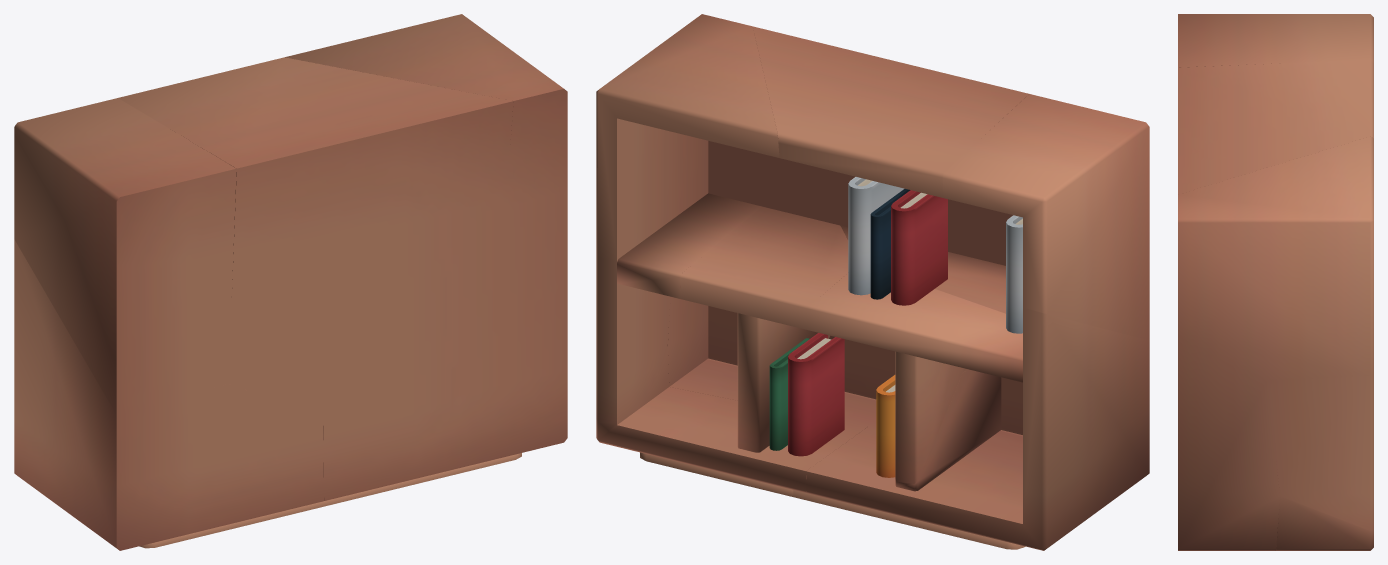
Rendered from Shelves2.fbx.
3 renders of one model, left to right at view 1: azimuth 30°, elevation 25°; view 2: azimuth 150°, elevation 25°; view 3: azimuth 270°, elevation 25°, orthographic. The views are drawn at different scales.
Visible parts, largest first — view 1: BookShelves1.002_cell.010, BookShelves1.002_cell.012, BookShelves1.002_cell.008, BookShelves1.002_cell.014, BookShelves1.002_cell.011, BookShelves1.001_cell.004, BookShelves1.001_cell.006; view 2: BookShelves1.002_cell.008, BookShelves1.002_cell.010, BookShelves1.002_cell.012, BookShelves1.002_cell.011, BookShelves1.003_cell.008, BookShelves1.003_cell.007, BookShelves1.002_cell.013, BookShelves1.002_cell.014, BookShelves1.002_cell.009, BookShelves1.003_cell.009, Books.051, Books.054 (+9 smaller); view 3: BookShelves1.002_cell.011, BookShelves1.002_cell.010, BookShelves1.002_cell.014, BookShelves1.002_cell.009, BookShelves1.002_cell.012, BookShelves1.002_cell.013.
Part boxes in pixels (bbox=[...]): BookShelves1.002_cell.010: bbox=[118, 57, 513, 415]; BookShelves1.002_cell.012: bbox=[14, 98, 236, 414]; BookShelves1.002_cell.008: bbox=[14, 239, 323, 550]; BookShelves1.002_cell.014: bbox=[323, 212, 567, 500]; BookShelves1.002_cell.011: bbox=[285, 14, 567, 231]; BookShelves1.001_cell.004: bbox=[139, 497, 342, 548]; BookShelves1.001_cell.006: bbox=[342, 453, 521, 501]; BookShelves1.002_cell.008: bbox=[806, 307, 1149, 550]; BookShelves1.002_cell.010: bbox=[752, 26, 1028, 265]; BookShelves1.002_cell.012: bbox=[942, 94, 1149, 340]; BookShelves1.002_cell.011: bbox=[596, 14, 779, 261]; BookShelves1.003_cell.008: bbox=[680, 206, 848, 452]; BookShelves1.003_cell.007: bbox=[808, 273, 1022, 483]; BookShelves1.002_cell.013: bbox=[596, 347, 867, 493]; BookShelves1.002_cell.014: bbox=[667, 167, 895, 426]; BookShelves1.002_cell.009: bbox=[596, 254, 670, 422]; BookShelves1.003_cell.009: bbox=[617, 193, 761, 298]; Books.051: bbox=[788, 333, 844, 456]; Books.054: bbox=[891, 190, 947, 305]; BookShelves1.002_cell.011: bbox=[1178, 136, 1373, 381]; BookShelves1.002_cell.010: bbox=[1178, 60, 1373, 194]; BookShelves1.002_cell.014: bbox=[1178, 337, 1279, 550]; BookShelves1.002_cell.009: bbox=[1267, 374, 1373, 530]; BookShelves1.002_cell.012: bbox=[1178, 14, 1373, 67]; BookShelves1.002_cell.013: bbox=[1275, 492, 1373, 550].
Size of the model in its own units: 0.6103 by 1.53 by 1.18.
